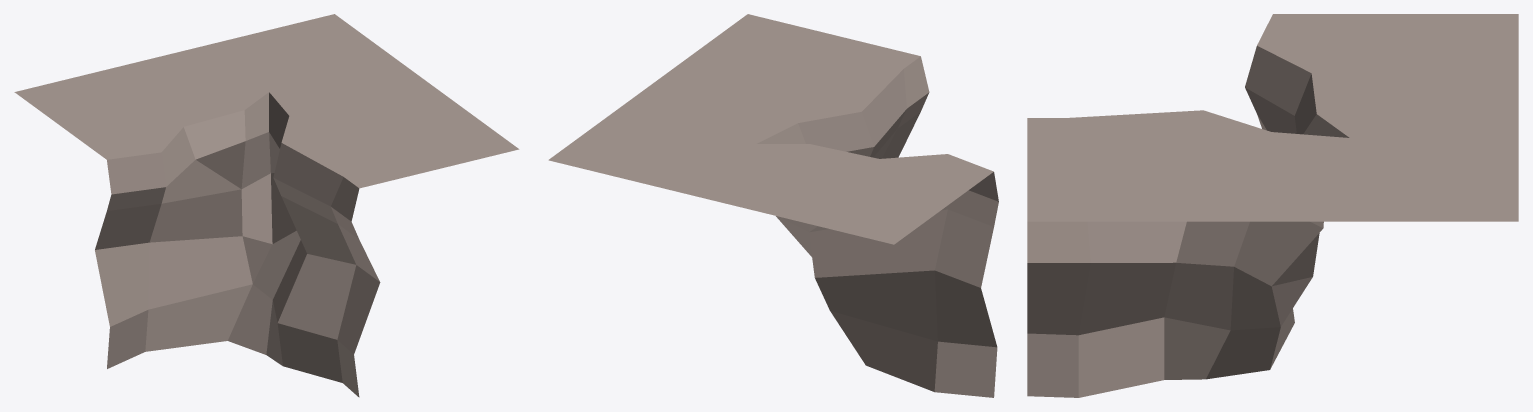
Rendered from ArenaWall_Corner_Inner.fbx.
3 views of the same model, side by side, from view 1: azimuth 30°, elevation 25°; view 2: azimuth 150°, elevation 25°; view 3: azimuth 270°, elevation 25° (orthographic). The views are drawn at different scales.
Parts seen in each view (by area): view 1: ArenaWall_Corner_Inner; view 2: ArenaWall_Corner_Inner; view 3: ArenaWall_Corner_Inner.
Part boxes in pixels (x1,y1,x2,y2): ArenaWall_Corner_Inner: (14,14,519,397); ArenaWall_Corner_Inner: (548,14,998,397); ArenaWall_Corner_Inner: (1027,14,1518,397).
Size of the model in its own units: 4 by 2.5 by 4.
